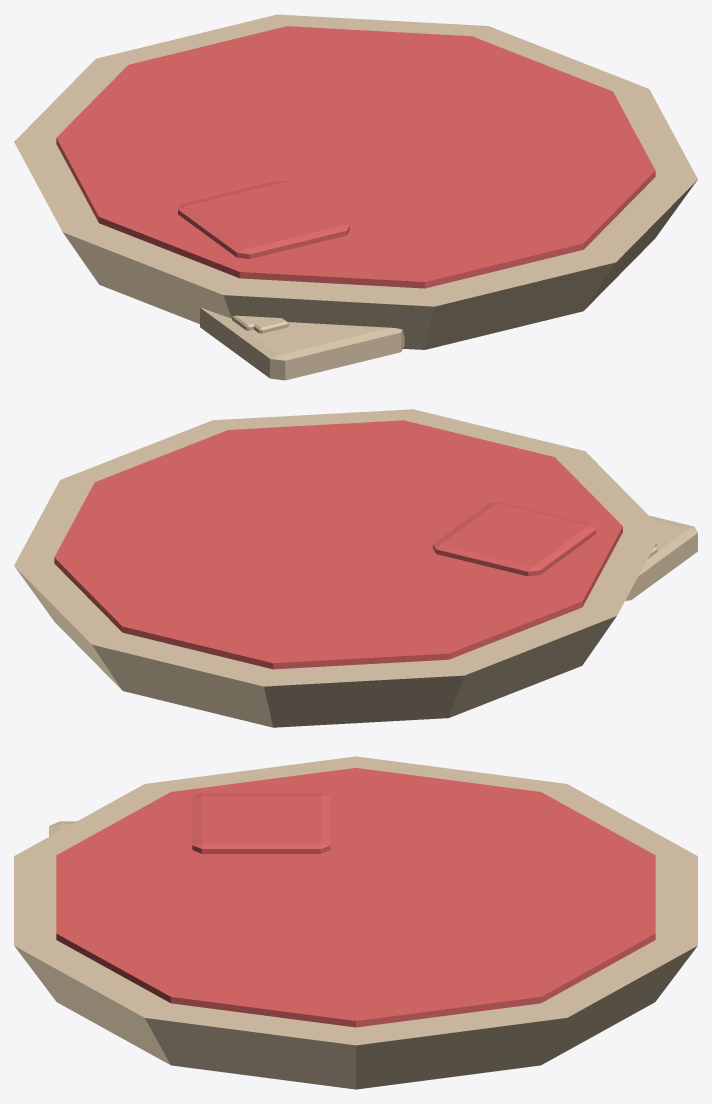
Rendered from b16_fluted_paper_plate.glb.
3 views of the same model, one above another, from view 1: azimuth 30°, elevation 25°; view 2: azimuth 150°, elevation 25°; view 3: azimuth 270°, elevation 25° (orthographic). The views are drawn at different scales.
Parts seen in each view (by area): view 1: b16_fluted_paper_plate; view 2: b16_fluted_paper_plate; view 3: b16_fluted_paper_plate.
Boxes of the visible parts, x1,y1,x2,y2 form: b16_fluted_paper_plate: (14, 14, 697, 380); b16_fluted_paper_plate: (14, 409, 697, 727); b16_fluted_paper_plate: (14, 756, 697, 1089).
Size of the model in its own units: 0.206 by 0.025 by 0.206.
